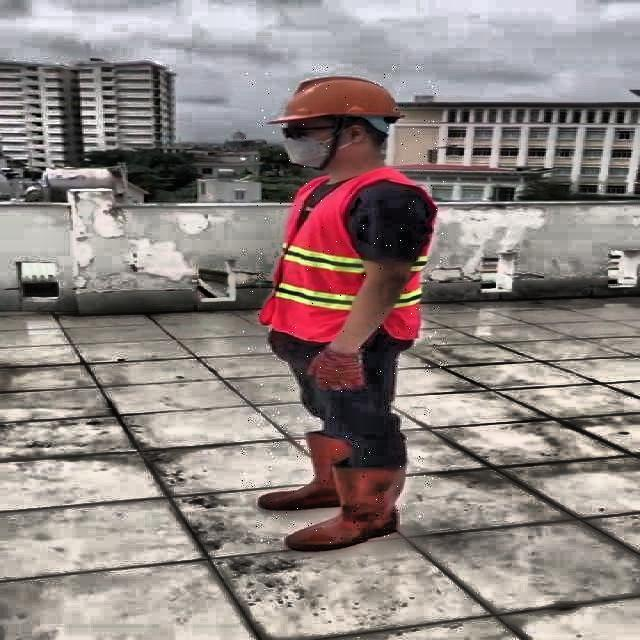safety_helmet: (268, 72, 406, 126)
safety_jacket: (266, 171, 430, 343)
